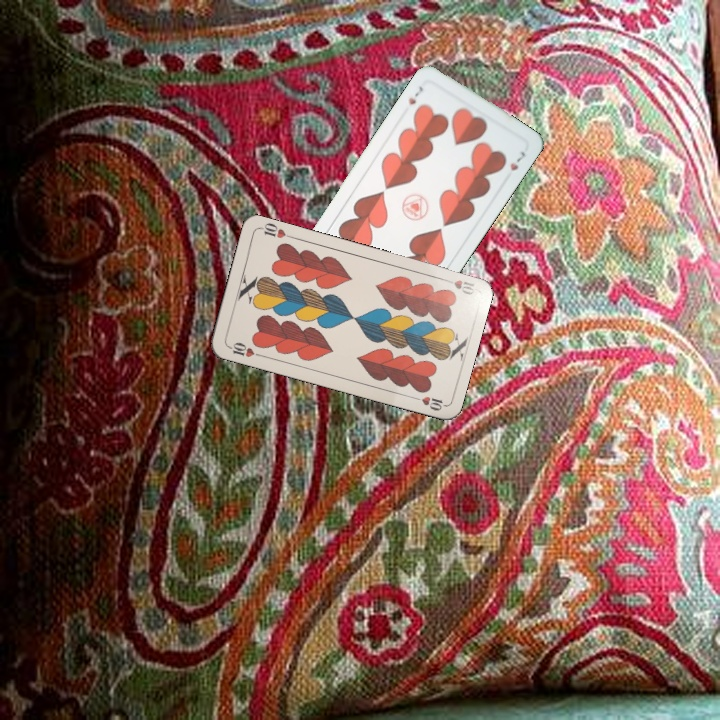H10: (438, 274, 477, 297), (224, 338, 264, 360)
H7: (404, 82, 426, 108)
